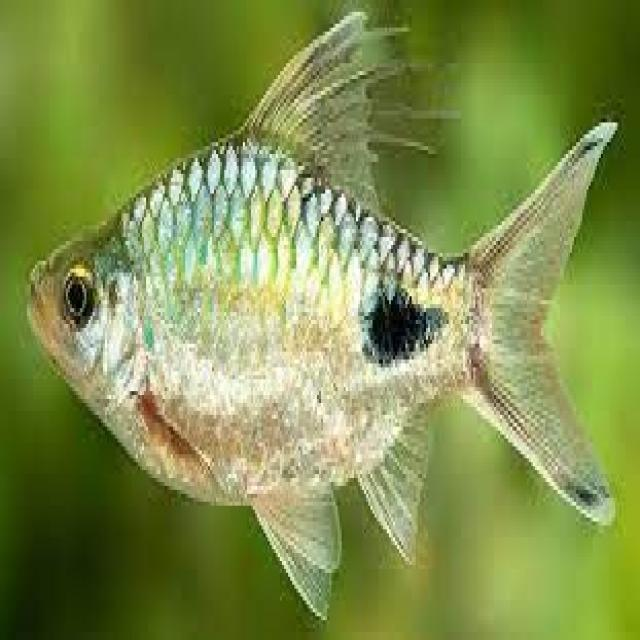Black-Spotted-Barb: (21, 23, 607, 609)
